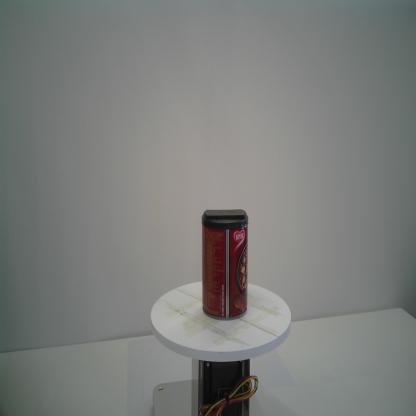Canned Food: (198, 205, 252, 324)
